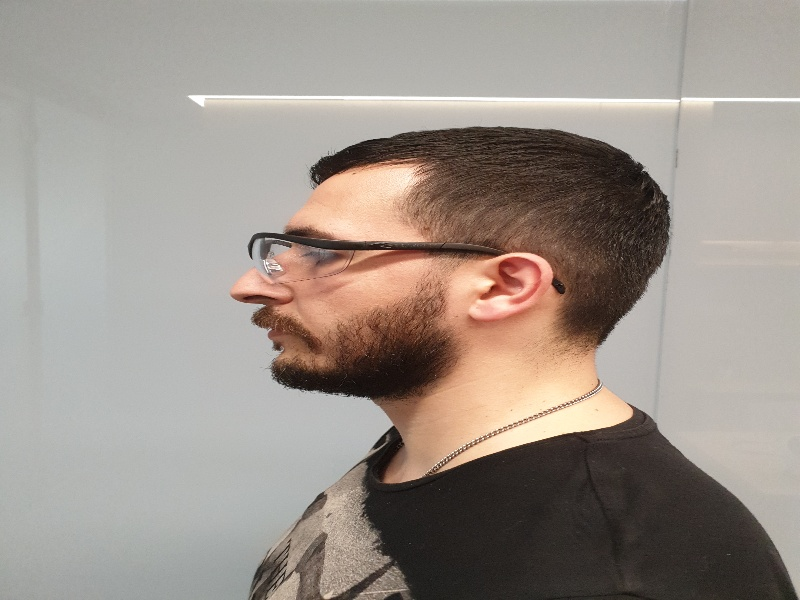Gozluk: (247, 231, 508, 287)
